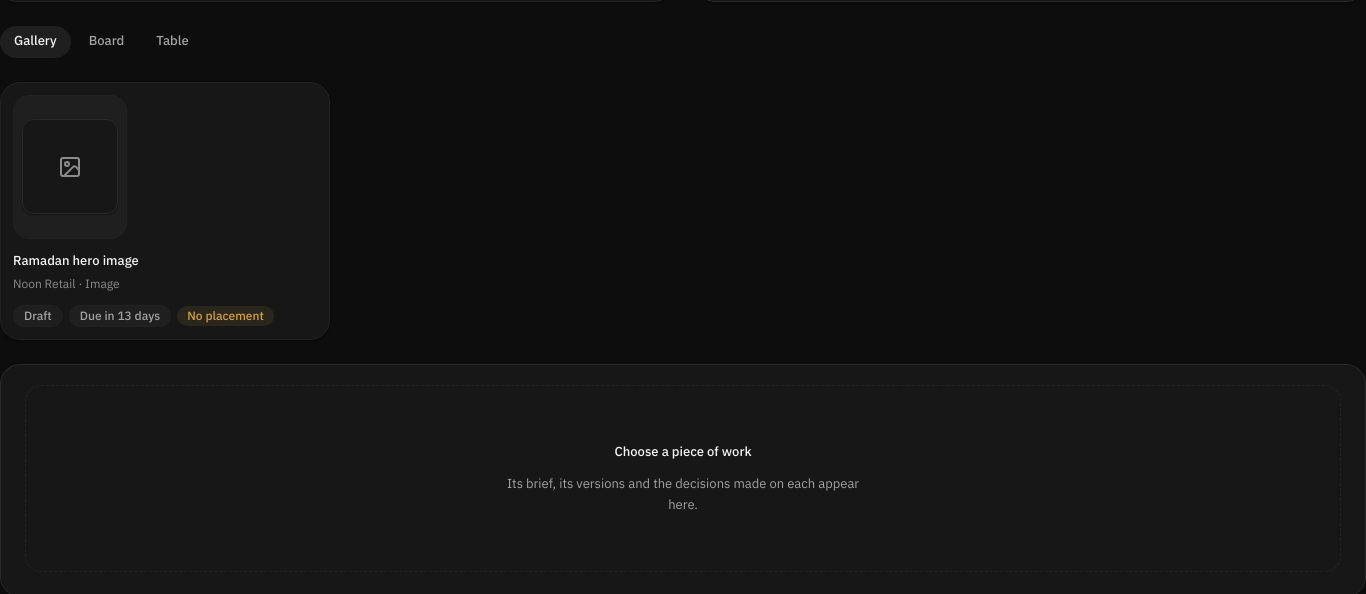
Test: the creative hub › shows an unmeasured property as not measured rather than as zero
(page scrolled)
Click the button "Ramadan hero image". click: click(70, 167)
box: x1=0 y1=82 x2=330 y2=340
(page scrolled)
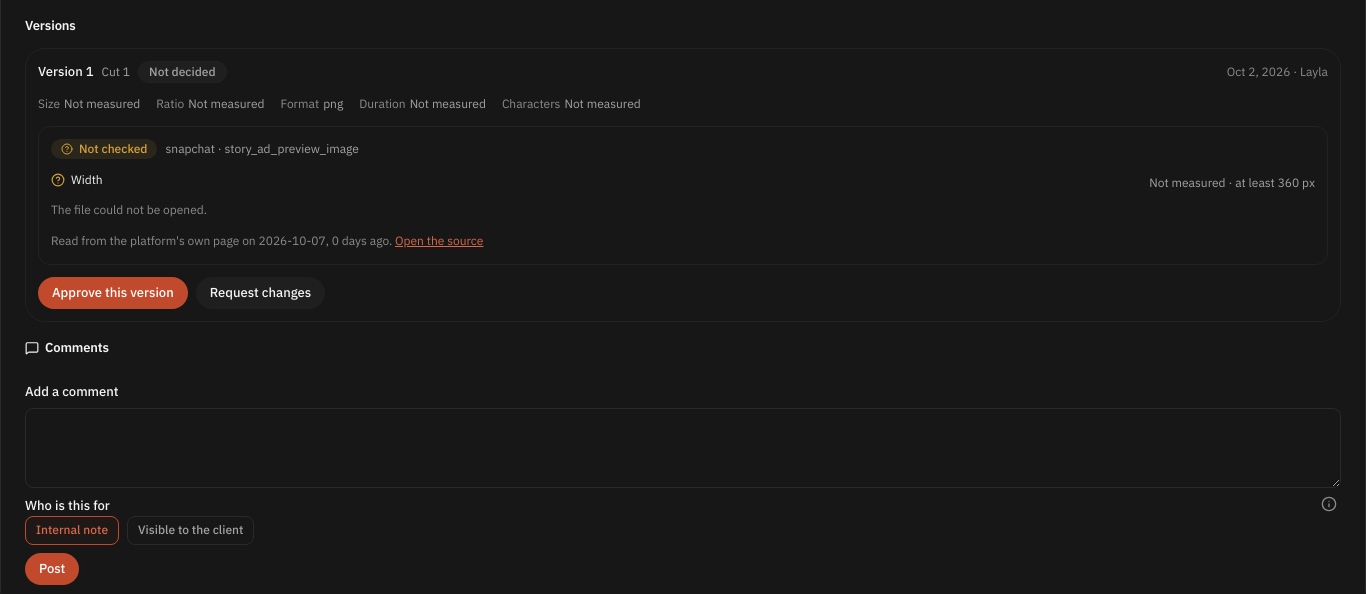
Result: the text "Not measured" next to "Size" is shown at x1=64 y1=95 x2=140 y2=113
Result: the text "The file could not be opened." is shown at x1=51 y1=201 x2=207 y2=219
